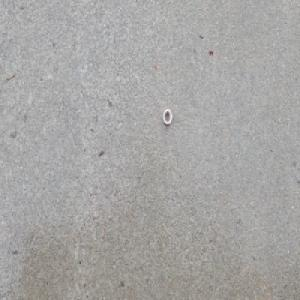Nut: (162, 108, 172, 126)
